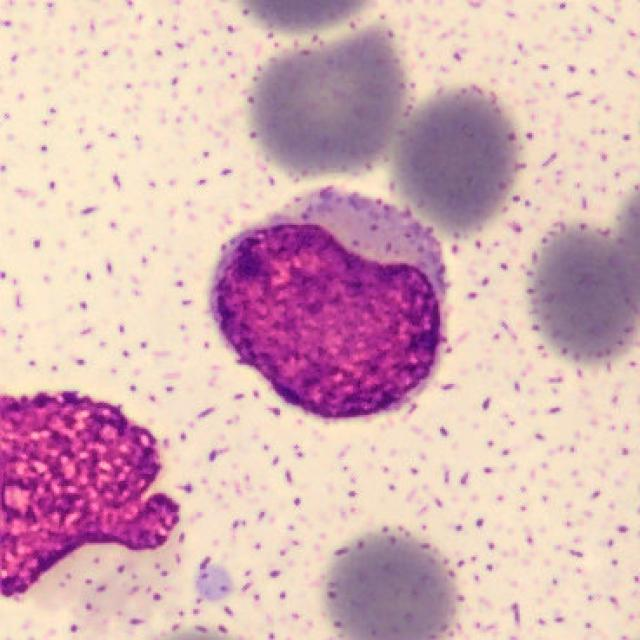Mieloblasto: (209, 190, 449, 422)
Restos celulares: (0, 393, 179, 600)
